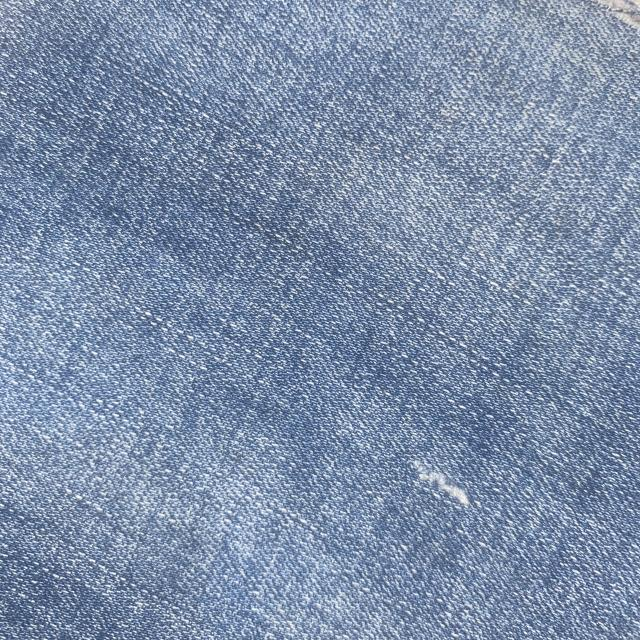Knot: (413, 461, 471, 508)
